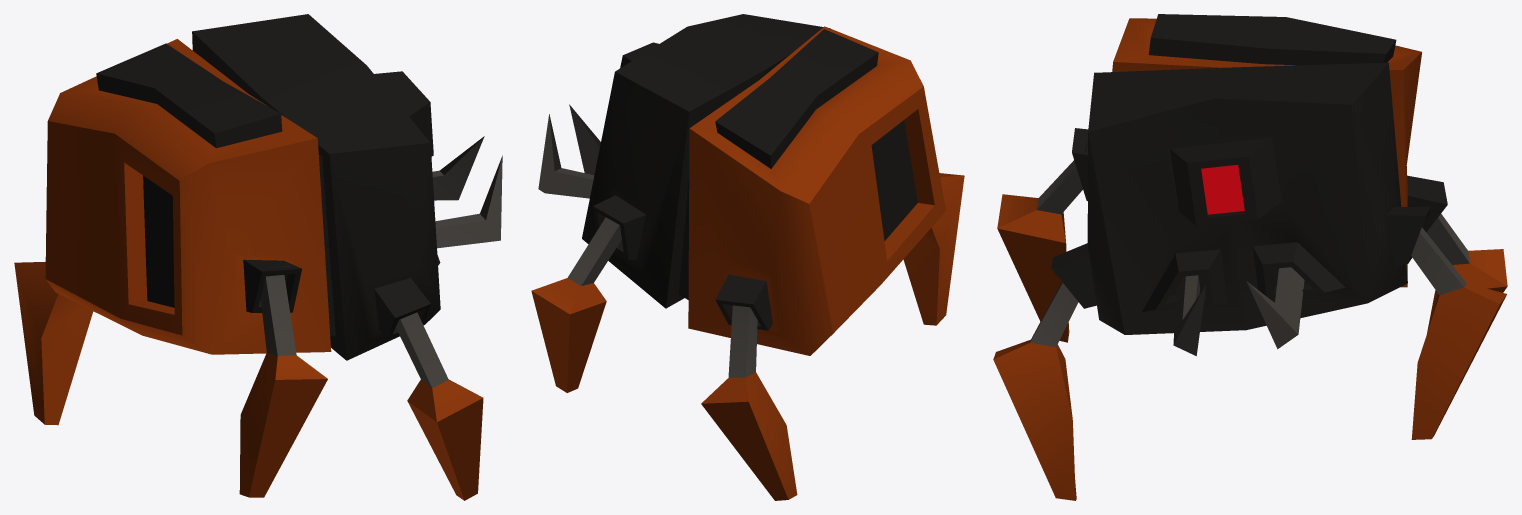
The model's file is SPIDBOT6.obj.
The picture shows the model from 3 angles, left to right: view 1: azimuth 30°, elevation 25°; view 2: azimuth 150°, elevation 25°; view 3: azimuth 270°, elevation 25°; orthographic projection. The views are drawn at different scales.
Parts seen in each view (by area): view 1: Cube.001; view 2: Cube.001; view 3: Cube.001.
Boxes of the visible parts, left/top/right/bottom form: Cube.001: left=14, top=14, right=502, bottom=500; Cube.001: left=531, top=14, right=964, bottom=500; Cube.001: left=993, top=14, right=1507, bottom=500.
Size of what is drawn, in the model's own units: 2.88 by 2.86 by 3.39.
